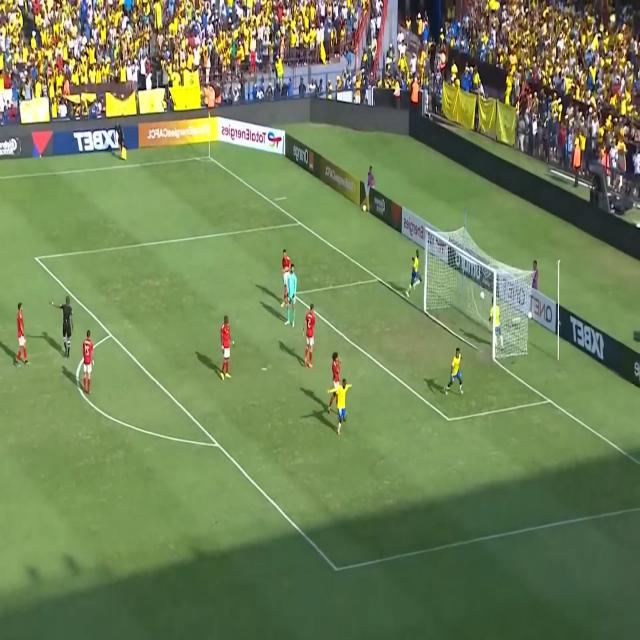Ball: (479, 290, 485, 302)
Keeper: (284, 264, 297, 328)
Player: (324, 381, 354, 436), (218, 315, 235, 381), (444, 346, 464, 396), (326, 352, 342, 412), (81, 330, 95, 397), (302, 304, 316, 370), (14, 302, 28, 367), (405, 250, 422, 296), (490, 298, 503, 353), (279, 249, 290, 309)
Ref: (49, 294, 74, 357), (114, 122, 128, 161)
